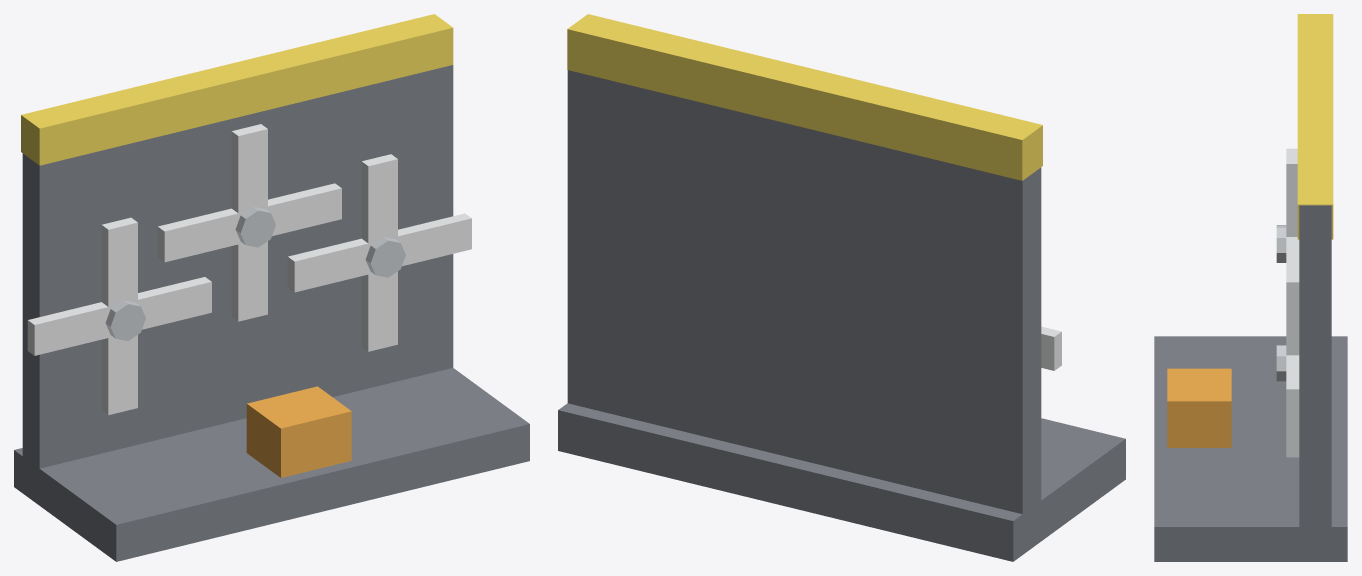
Rendered from propeller-set-spare.glb.
The picture shows the model from 3 angles, left to right: view 1: azimuth 30°, elevation 25°; view 2: azimuth 150°, elevation 25°; view 3: azimuth 270°, elevation 25°; orthographic projection. The views are drawn at different scales.
Visible parts, largest first — view 1: propeller-set-spare; view 2: propeller-set-spare; view 3: propeller-set-spare.
Boxes of the visible parts, x1,y1,x2,y2 form: propeller-set-spare: (14, 14, 529, 561); propeller-set-spare: (558, 14, 1125, 561); propeller-set-spare: (1154, 14, 1347, 561).
Size of the model in its own units: 0.74 by 0.6112 by 0.3.
